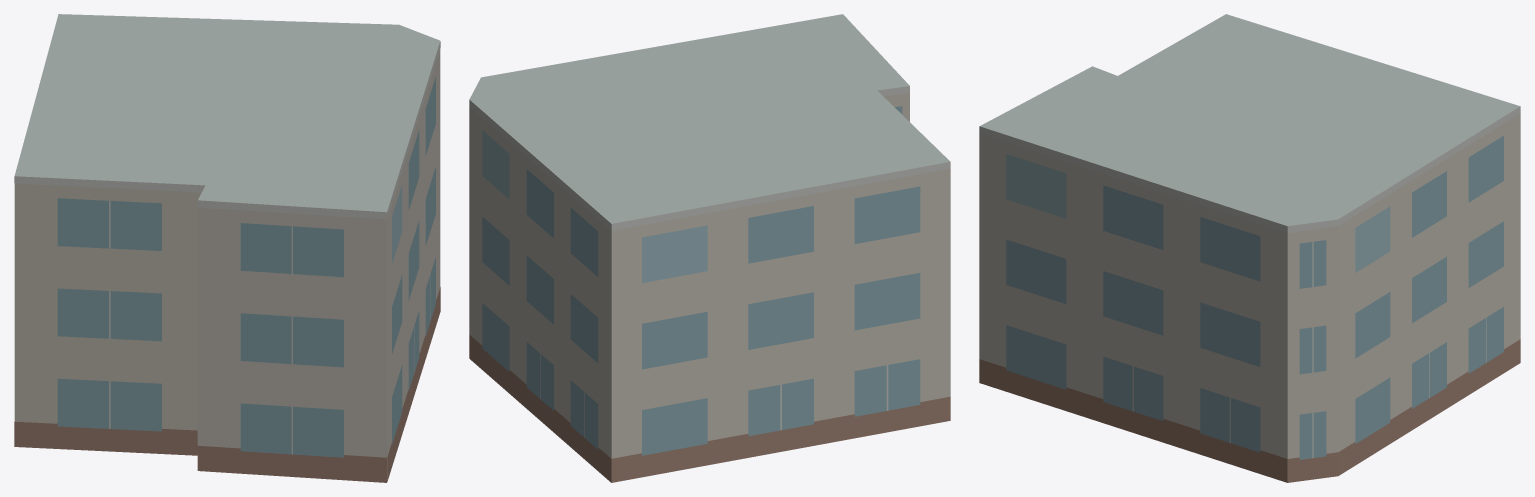
Rendered from survey-upis-32956402.glb.
The picture shows the model from 3 angles, left to right: view 1: azimuth 30°, elevation 25°; view 2: azimuth 150°, elevation 25°; view 3: azimuth 270°, elevation 25°; orthographic projection. The views are drawn at different scales.
Parts seen in each view (by area): view 1: survey-upis-32956402.tmp; view 2: survey-upis-32956402.tmp; view 3: survey-upis-32956402.tmp.
Boxes of the visible parts, box(x1,y1,x2,y2) form: survey-upis-32956402.tmp: box(14, 14, 440, 482); survey-upis-32956402.tmp: box(469, 14, 950, 482); survey-upis-32956402.tmp: box(979, 14, 1520, 482).
Bounding box in the file's own units: 16.23 × 9.15 × 17.49.
